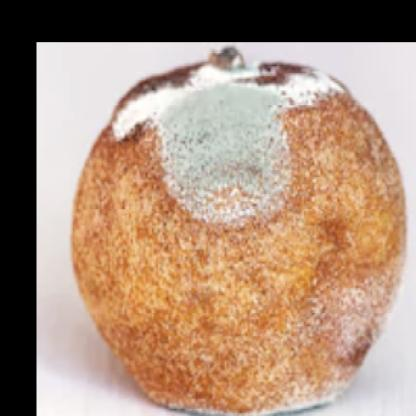rotten: (73, 54, 407, 416)
